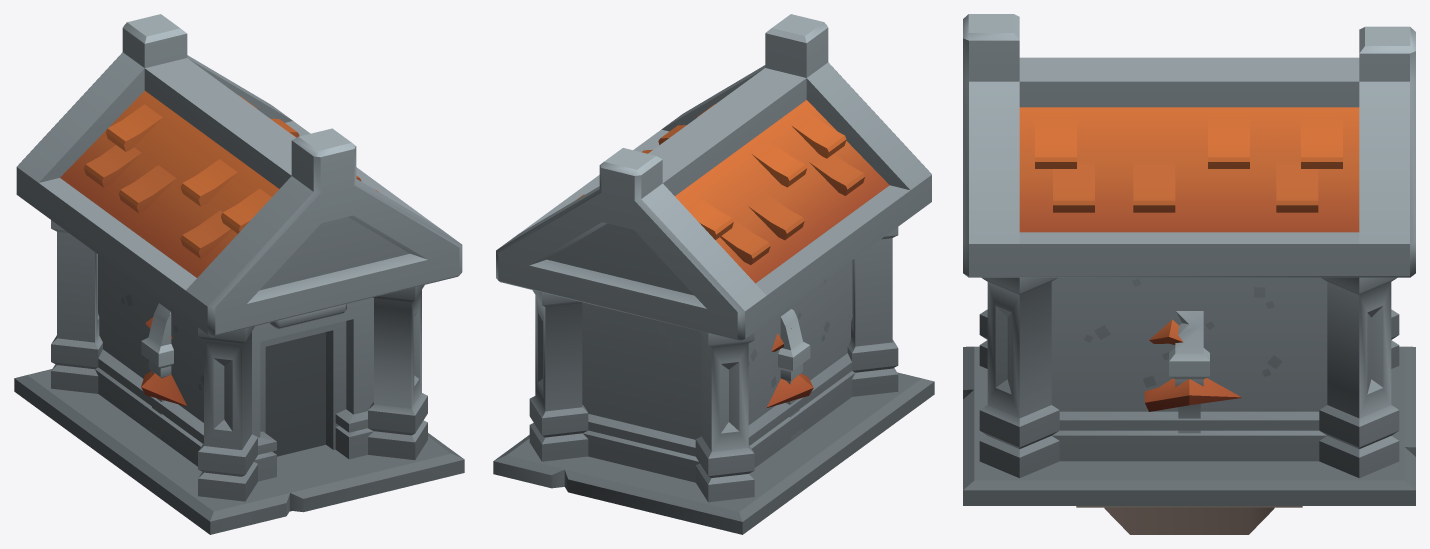
File: props.glb
3 renders of one model, left to right at view 1: azimuth 30°, elevation 25°; view 2: azimuth 150°, elevation 25°; view 3: azimuth 270°, elevation 25°, orthographic. The views are drawn at different scales.
Parts seen in each view (by area): view 1: crypt, arch, tree_pine_orange_large; view 2: crypt, arch, tree_pine_orange_large; view 3: crypt, floor_dirt_grave, arch, tree_pine_orange_large.
Boxes of the visible parts, left/top/right/bottom form: crypt: left=14, top=14, right=464, bottom=534; arch: left=141, top=303, right=173, bottom=439; tree_pine_orange_large: left=141, top=317, right=187, bottom=406; crypt: left=493, top=14, right=934, bottom=534; arch: left=778, top=309, right=810, bottom=441; tree_pine_orange_large: left=767, top=328, right=813, bottom=407; crypt: left=963, top=14, right=1415, bottom=505; floor_dirt_grave: left=1076, top=506, right=1302, bottom=534; arch: left=1169, top=311, right=1209, bottom=433; tree_pine_orange_large: left=1144, top=319, right=1241, bottom=411.
Size of the model in its own units: 6 by 9.5 by 8.
1 material, 1 textured.
